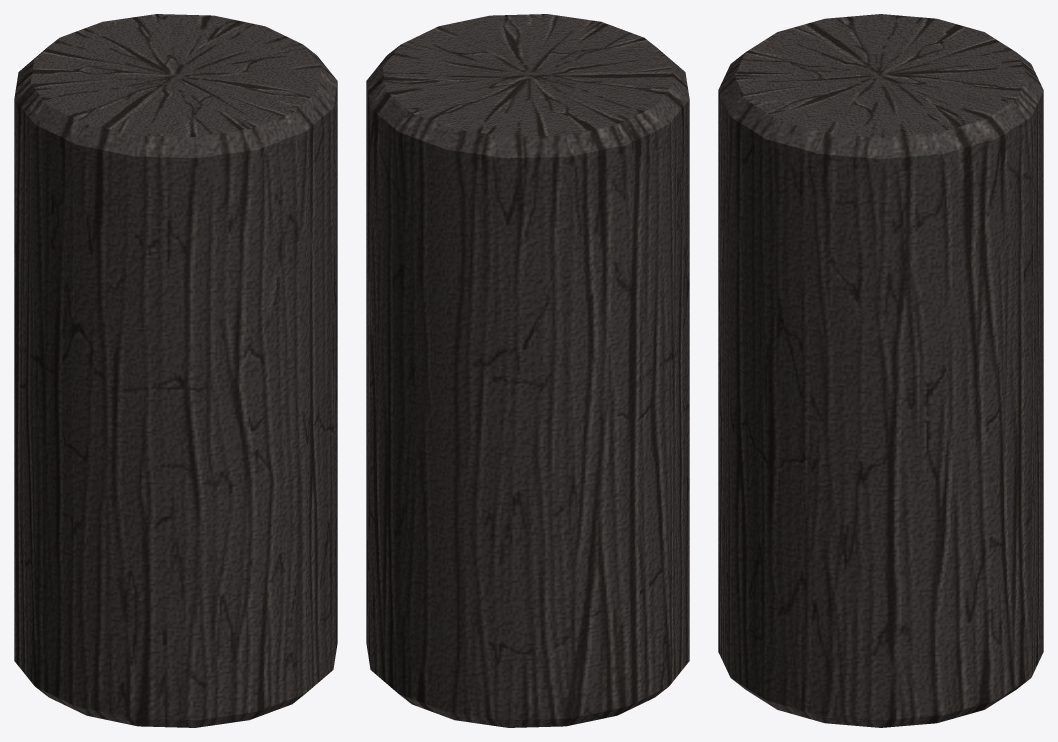
Rendered from Charcoal_01 (1).fbx.
The picture shows the model from 3 angles, left to right: view 1: azimuth 30°, elevation 25°; view 2: azimuth 150°, elevation 25°; view 3: azimuth 270°, elevation 25°; orthographic projection.
Visible parts, largest first — view 1: pCylinder1; view 2: pCylinder1; view 3: pCylinder1.
Part boxes in pixels (x1,y1,x2,y2): pCylinder1: [14, 14, 337, 727]; pCylinder1: [366, 14, 689, 727]; pCylinder1: [718, 14, 1043, 727].
Size of the model in its own units: 5 by 10 by 5.
